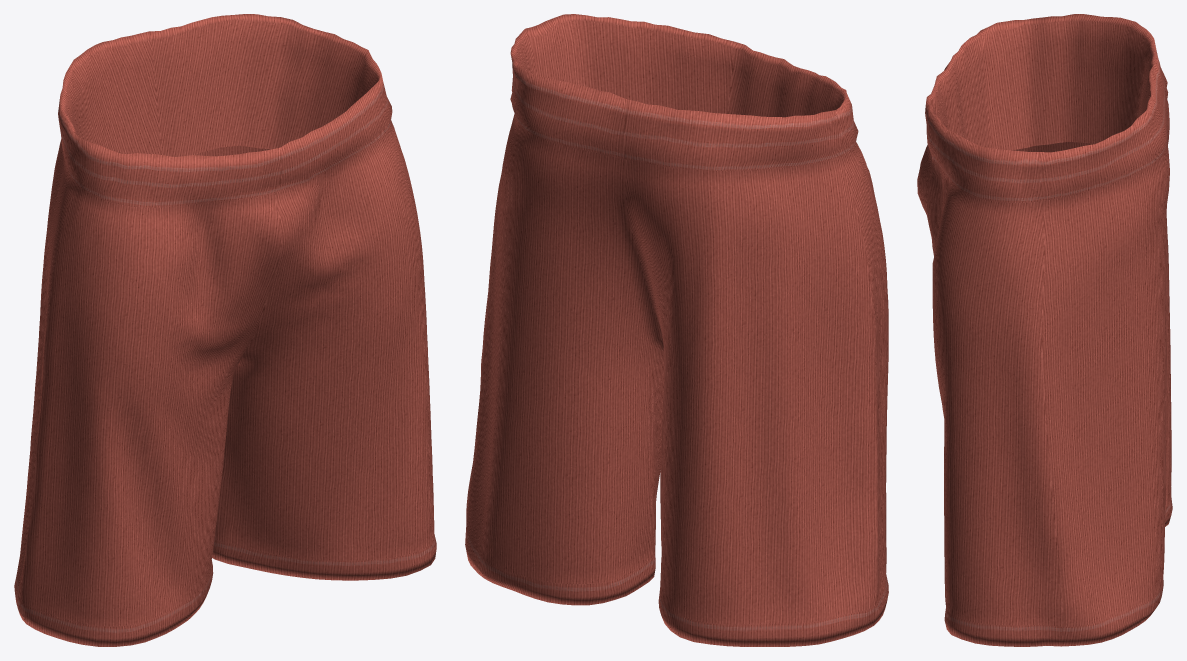
The model's file is man_shorts.glb.
The picture shows the model from 3 angles, left to right: view 1: azimuth 30°, elevation 25°; view 2: azimuth 150°, elevation 25°; view 3: azimuth 270°, elevation 25°; orthographic projection. The views are drawn at different scales.
Parts seen in each view (by area): view 1: Object_2; view 2: Object_2; view 3: Object_2.
Part boxes in pixels (x1,y1,x2,y2): Object_2: (14,14,436,646); Object_2: (465,14,888,646); Object_2: (917,14,1172,646).
Size of the model in its own units: 0.4903 by 0.6261 by 0.2905.
1 material, 1 textured.
